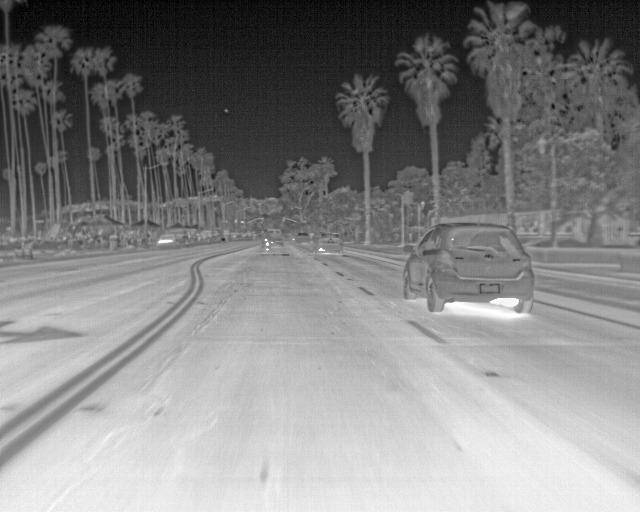car: (403, 223, 535, 314), (314, 232, 343, 255), (167, 227, 188, 247), (266, 228, 284, 247), (156, 234, 177, 249), (184, 228, 200, 245), (199, 229, 213, 244), (295, 232, 310, 244), (223, 229, 233, 242), (211, 230, 221, 242), (231, 232, 241, 242), (245, 231, 254, 240), (239, 232, 247, 240)
light: (283, 217, 286, 222)
sign: (404, 192, 413, 204)
